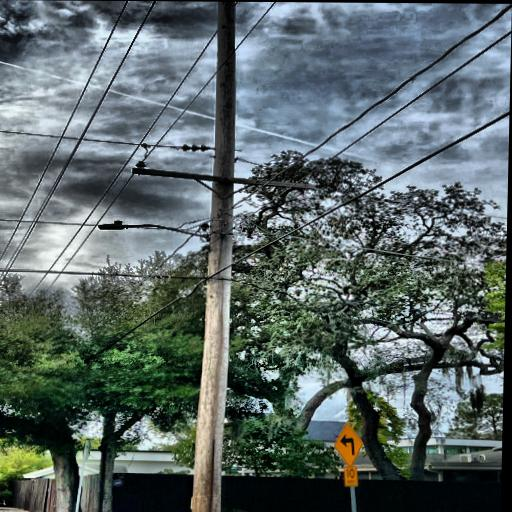pole: (180, 1, 245, 512)
street light: (94, 220, 216, 245)
